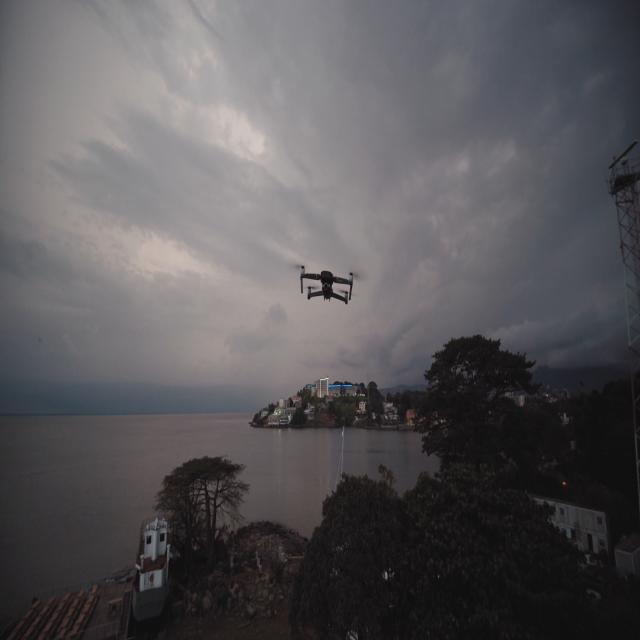drone: (297, 264, 353, 305)
